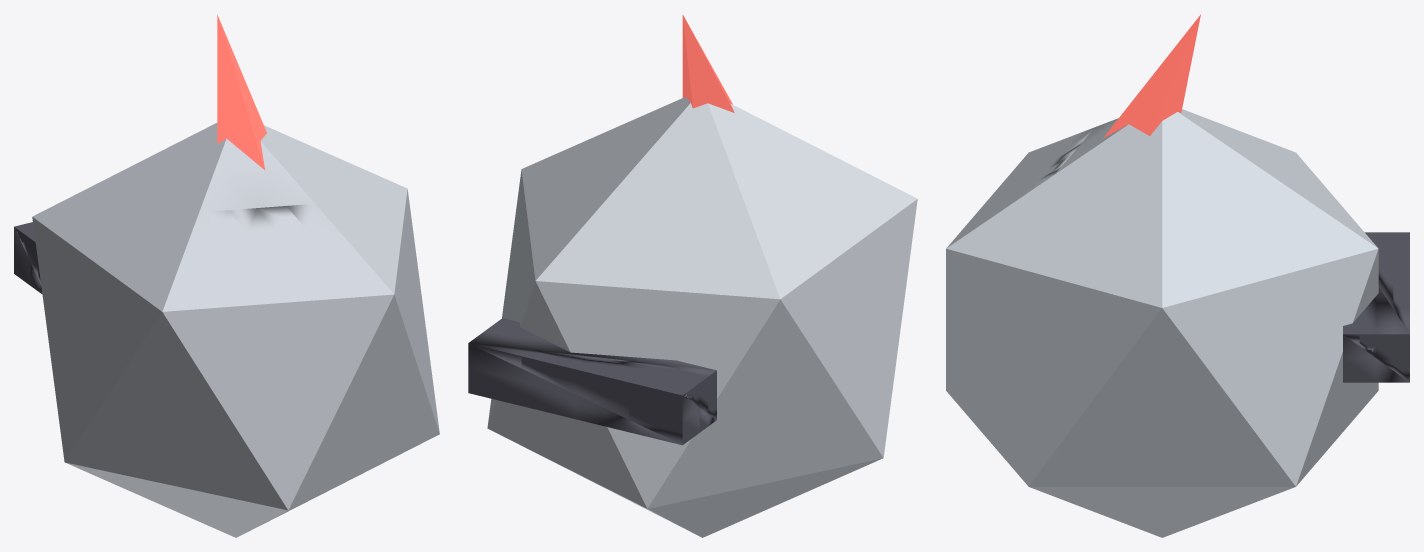
Rendered from helmet.glb.
3 renders of one model, left to right at view 1: azimuth 30°, elevation 25°; view 2: azimuth 150°, elevation 25°; view 3: azimuth 270°, elevation 25°, orthographic. The views are drawn at different scales.
Visible parts, largest first — view 1: Helmet; view 2: Helmet; view 3: Helmet.
Part boxes in pixels (left/top/right/bottom): Helmet: left=14, top=15, right=439, bottom=537; Helmet: left=468, top=14, right=917, bottom=537; Helmet: left=946, top=14, right=1409, bottom=537.
Size of the model in its own units: 0.6082 by 0.8642 by 0.6932.
